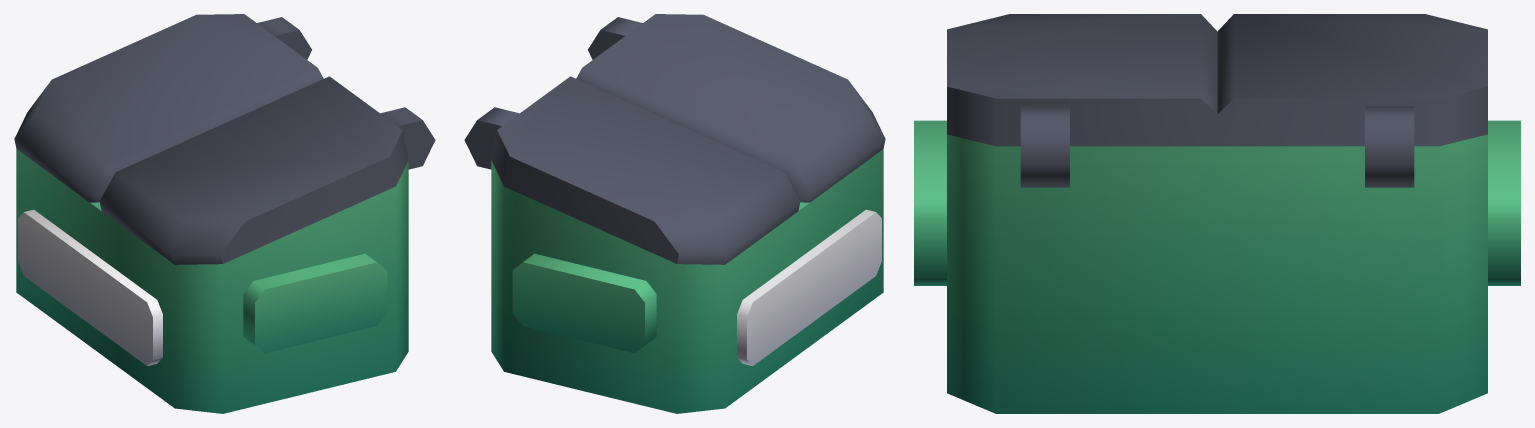
The picture shows the model from 3 angles, left to right: view 1: azimuth 30°, elevation 25°; view 2: azimuth 150°, elevation 25°; view 3: azimuth 270°, elevation 25°; orthographic projection. The views are drawn at different scales.
Parts seen in each view (by area): view 1: dumpster, lid-right, lid-left; view 2: dumpster, lid-left, lid-right; view 3: dumpster, lid-right, lid-left.
Part boxes in pixels (bbox=[...]): dumpster: bbox=[16, 17, 435, 413]; lid-right: bbox=[99, 76, 408, 264]; lid-left: bbox=[14, 14, 323, 202]; dumpster: bbox=[464, 17, 883, 413]; lid-left: bbox=[491, 76, 800, 264]; lid-right: bbox=[576, 14, 885, 202]; dumpster: bbox=[914, 106, 1520, 413]; lid-right: bbox=[947, 14, 1217, 146]; lid-left: bbox=[1217, 14, 1487, 146].
Size of the model in its own units: 2.94 by 2.24 by 3.95.
1 material, 1 textured.
